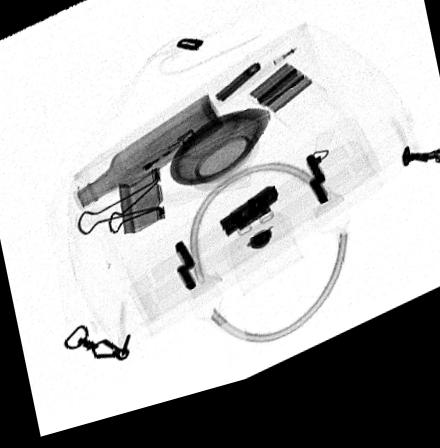Lighter: (121, 137, 199, 192)
